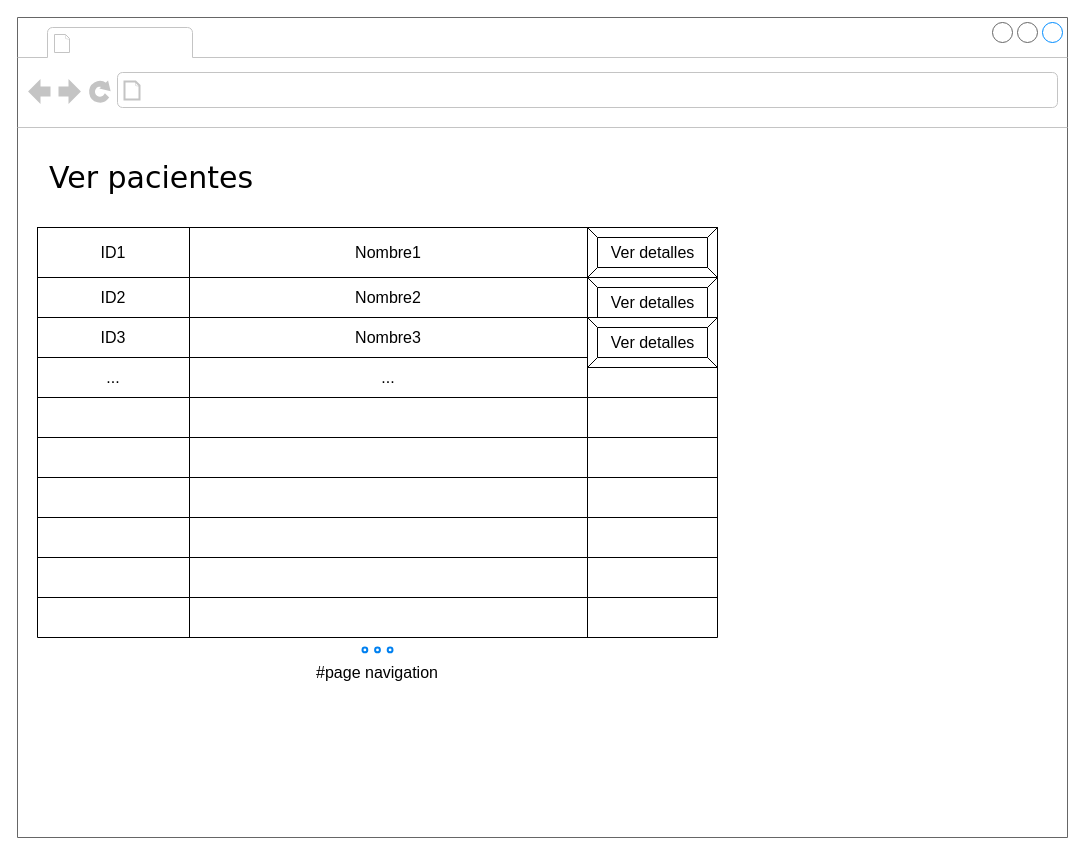
Some shapes in this 1085 by 855 pixel diagram are drawn without their labels. The box of each missing label's shape, as (x1, y1, x2, y2) in pixels:
https://www.default.com: (146, 76, 398, 104)
Page 1: (76, 28, 188, 56)
